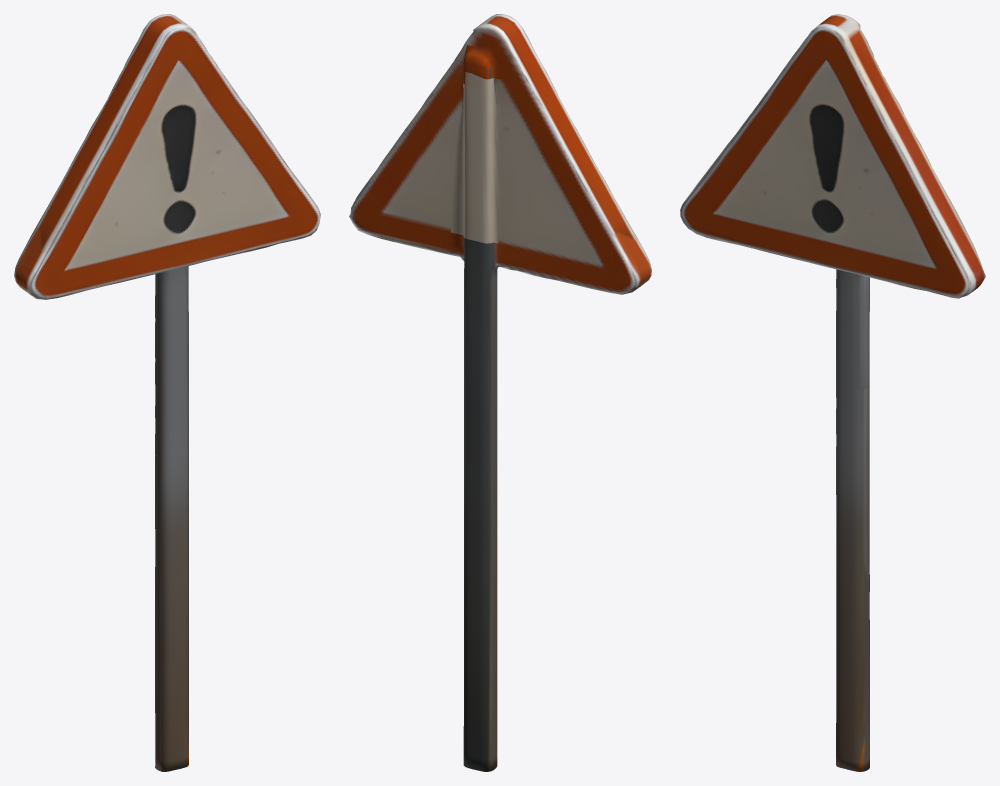
The model's file is Street_Plate.fbx.
3 renders of one model, left to right at view 1: azimuth 30°, elevation 25°; view 2: azimuth 150°, elevation 25°; view 3: azimuth 330°, elevation 25°, orthographic.
Visible parts, largest first — view 1: model.002; view 2: model.002; view 3: model.002.
Part boxes in pixels (x1,y1,x2,y2): model.002: (14, 14, 320, 771); model.002: (349, 14, 651, 771); model.002: (680, 14, 985, 771).
Bounding box in the file's own units: 63.22 × 155 × 8.22.
